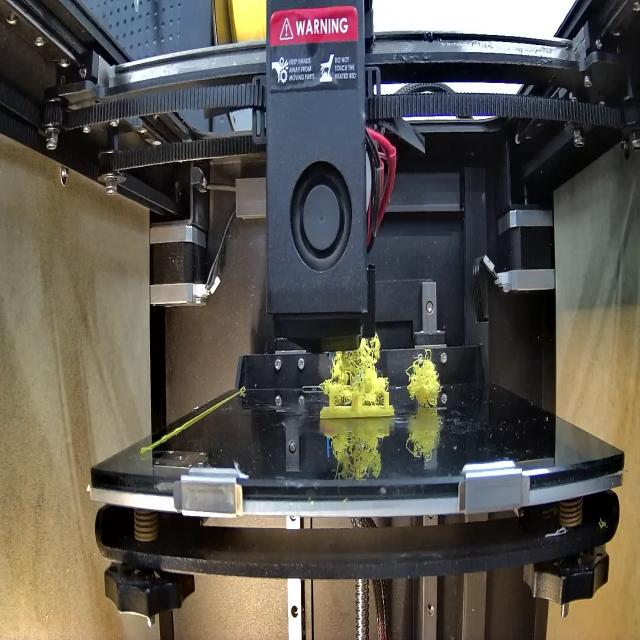spaghetti: (323, 332, 390, 403), (406, 348, 444, 408)
